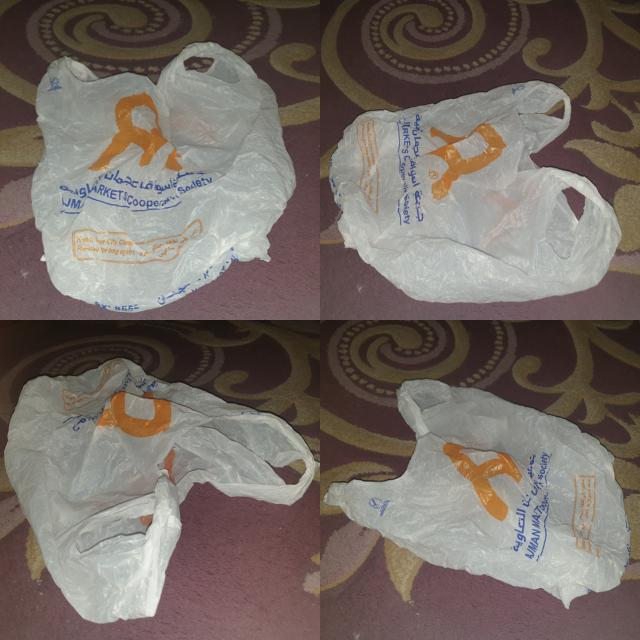Single-layer Plastic: (5, 359, 318, 622), (31, 42, 295, 312), (325, 380, 630, 608), (330, 81, 621, 302)
